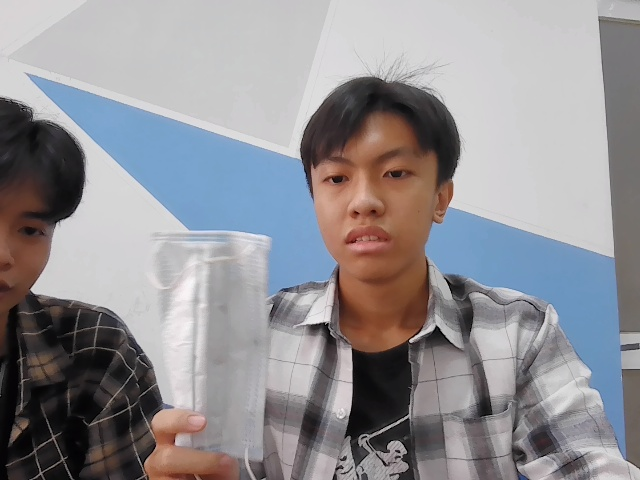human: (294, 79, 462, 278), (1, 99, 81, 318)
mask: (147, 226, 269, 456)
